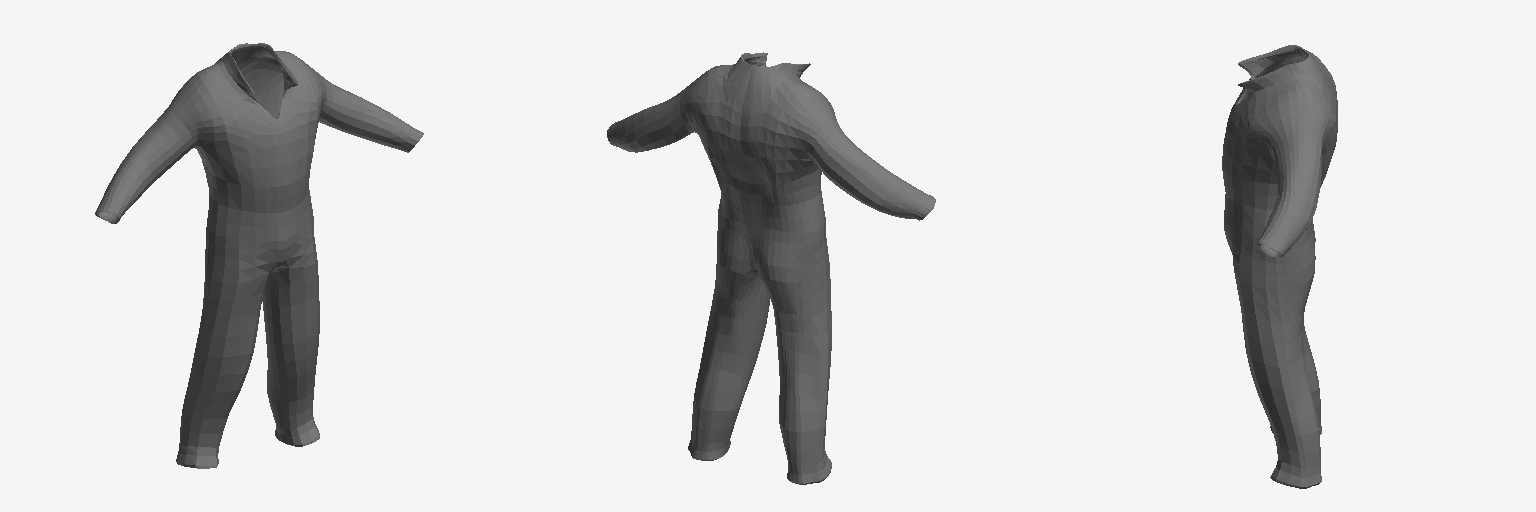
File: Overalls.obj
The picture shows the model from 3 angles: view 1: azimuth 30°, elevation 25°; view 2: azimuth 150°, elevation 25°; view 3: azimuth 270°, elevation 25°; orthographic projection.
Visible parts, largest first — view 1: Overalls; view 2: Overalls; view 3: Overalls.
Boxes of the visible parts, x1,y1,x2,y2 form: Overalls: [95, 43, 423, 468]; Overalls: [607, 52, 935, 484]; Overalls: [1222, 45, 1337, 488].
Bounding box in the file's own units: 131 × 155 × 40.59.